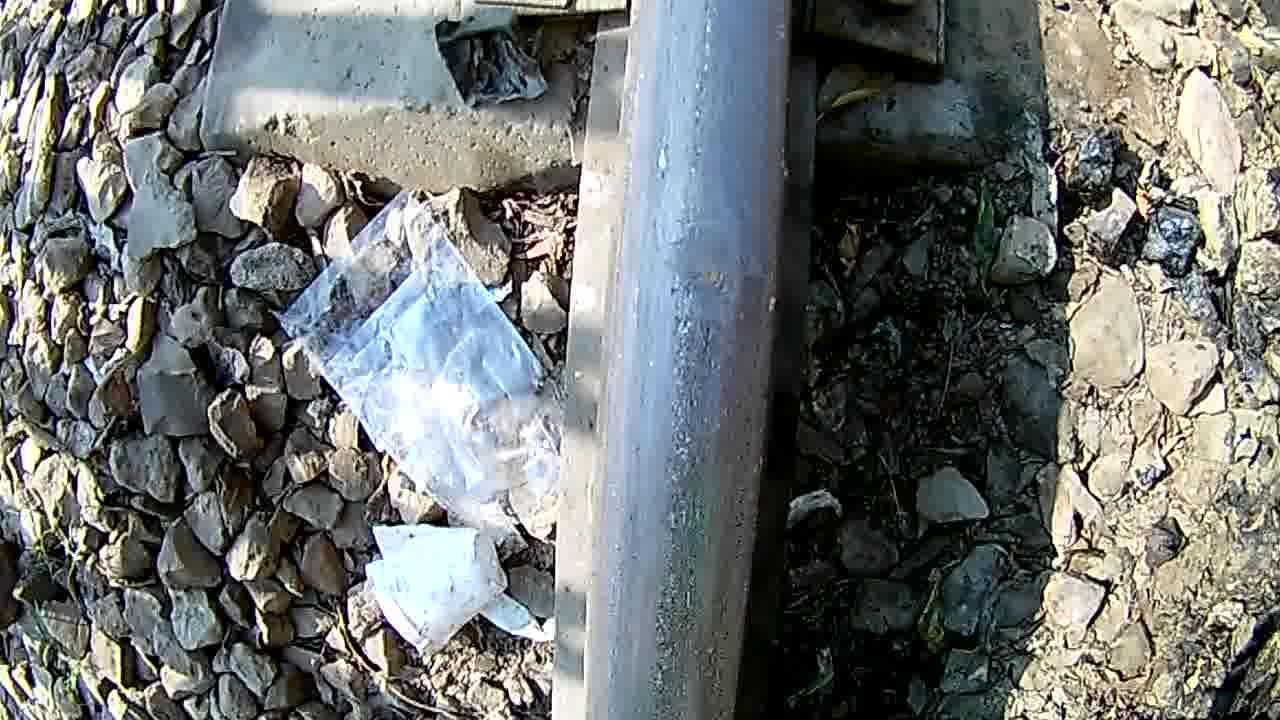bolt_missing: (616, 114, 771, 436)
